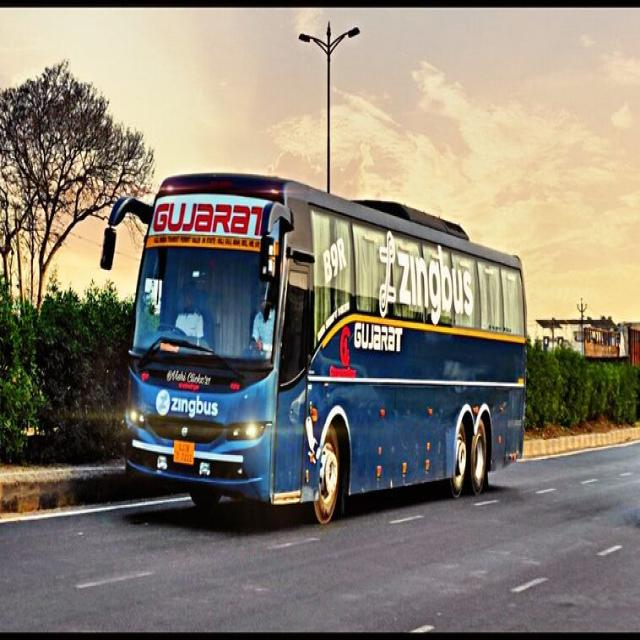bus: (103, 176, 526, 521)
